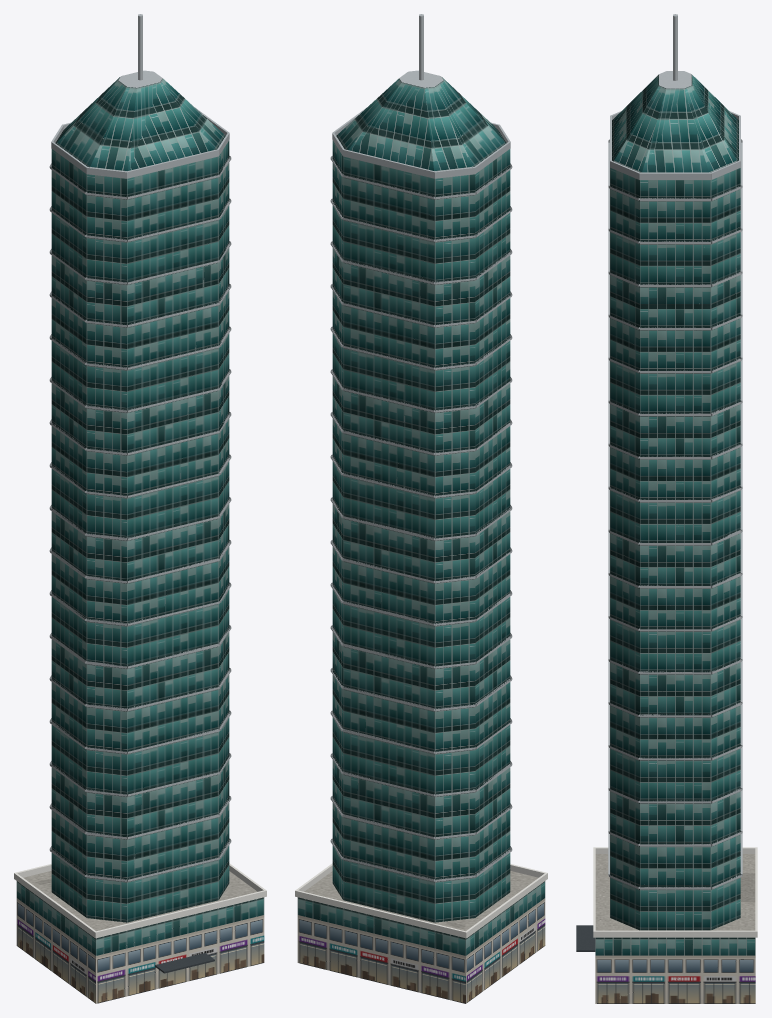
The model's file is OW_CaoOc_VP_VatGoc_152.fbx.
3 views of the same model, side by side, from view 1: azimuth 30°, elevation 25°; view 2: azimuth 150°, elevation 25°; view 3: azimuth 270°, elevation 25° (orthographic).
Visible parts, largest first — view 1: OW_CaoOc_VP_VatGoc_152_LOD0; view 2: OW_CaoOc_VP_VatGoc_152_LOD0; view 3: OW_CaoOc_VP_VatGoc_152_LOD0.
Part boxes in pixels (x1,y1,x2,y2): OW_CaoOc_VP_VatGoc_152_LOD0: (14,14,266,1003); OW_CaoOc_VP_VatGoc_152_LOD0: (295,14,547,1003); OW_CaoOc_VP_VatGoc_152_LOD0: (576,14,757,1003).
Size of what is drawn, in the model's own units: 33.7 by 176 by 30.55.
